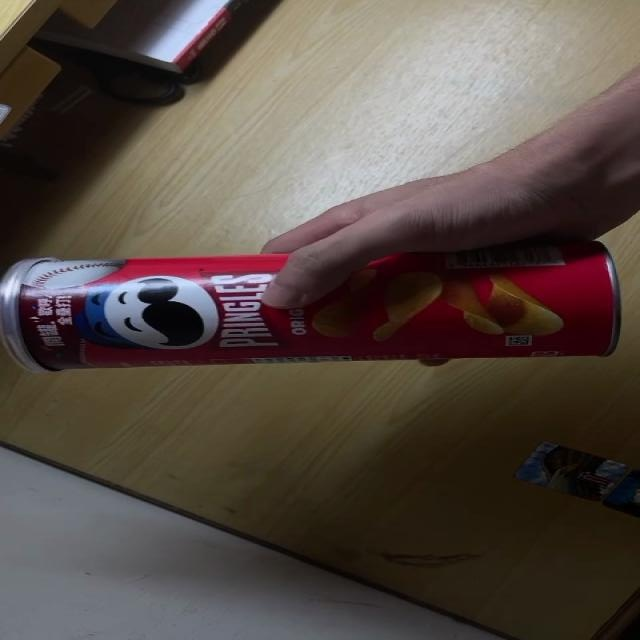Pringles: (0, 238, 623, 374)
